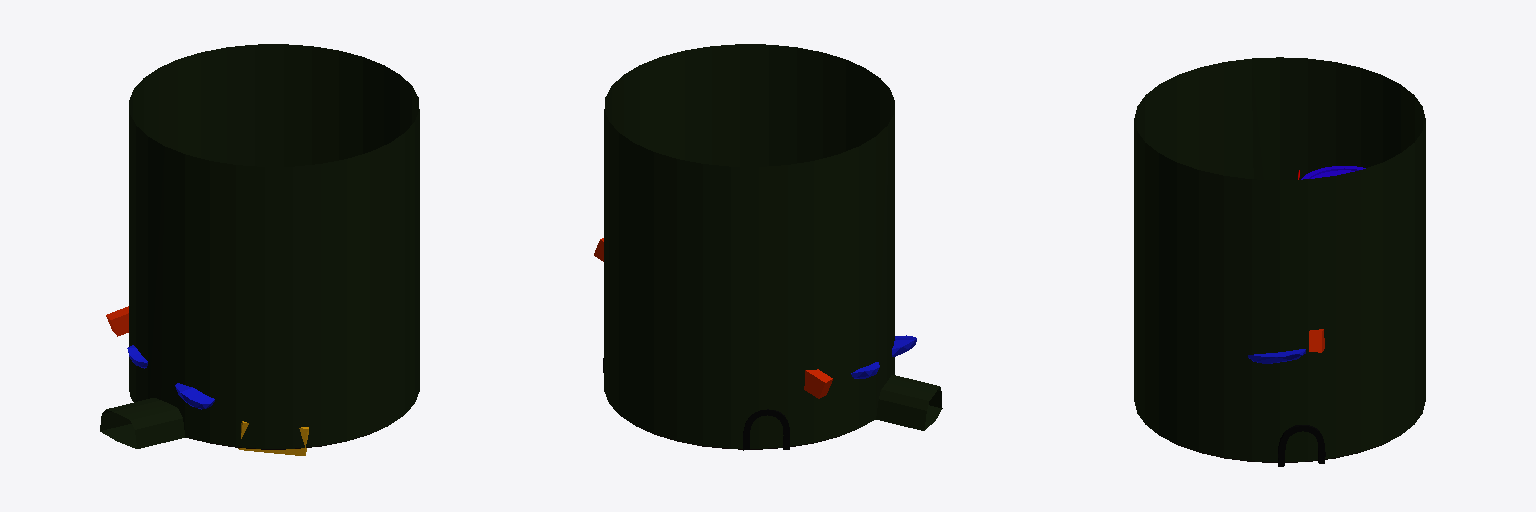
Rendered from level2_blockout.obj.
3 renders of one model, left to right at view 1: azimuth 30°, elevation 25°; view 2: azimuth 150°, elevation 25°; view 3: azimuth 270°, elevation 25°, orthographic.
Parts seen in each view (by area): view 1: Circle.002, Icosphere; view 2: Circle.002, Cube.004_Cube.005, Circle.003, Icosphere; view 3: Circle.002, Circle.003.
Part boxes in pixels (x1,y1,x2,y2): Circle.002: (100, 44, 419, 449); Icosphere: (127, 345, 214, 409); Circle.002: (604, 44, 942, 449); Cube.004_Cube.005: (594, 238, 832, 398); Circle.003: (603, 358, 789, 450); Icosphere: (851, 335, 916, 378); Circle.002: (1134, 57, 1425, 462); Circle.003: (1278, 425, 1325, 466).
Bounding box in the file's own units: 21.34 × 19 × 17.19.